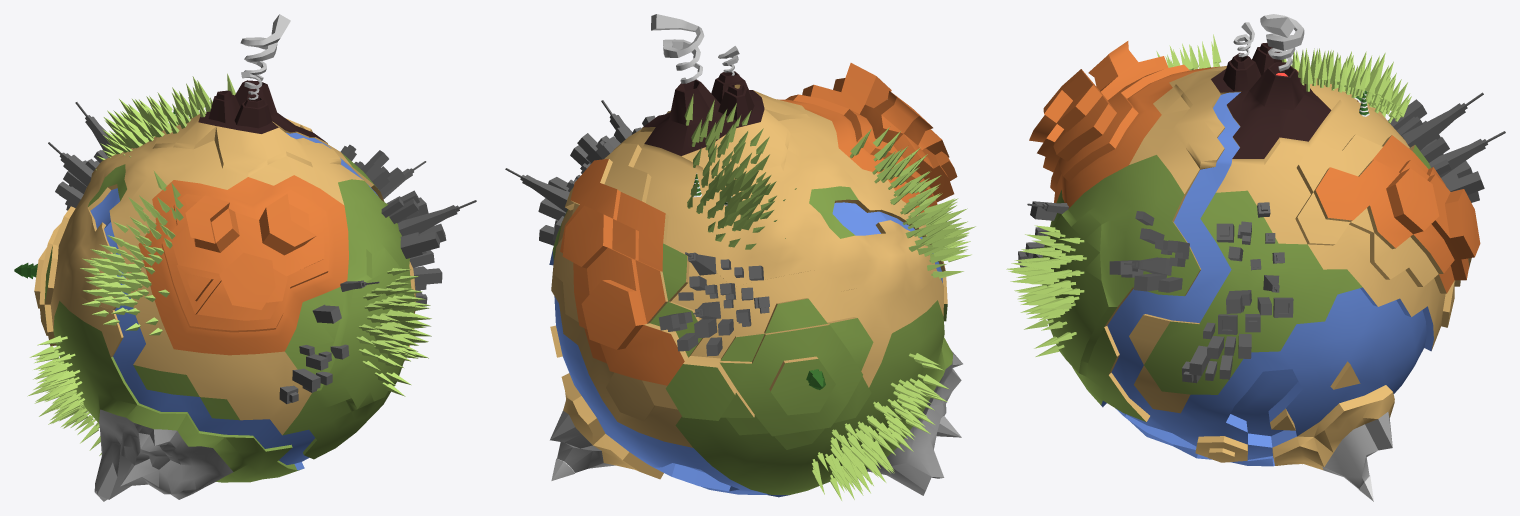
3 views of the same model, side by side, from view 1: azimuth 30°, elevation 25°; view 2: azimuth 150°, elevation 25°; view 3: azimuth 270°, elevation 25° (orthographic). The views are drawn at different scales.
Parts seen in each view (by area): view 1: Ground, Rocky Mountains, Grass, Forest, Mountains, City, Water, Forest 2, Forest 1, Volcano, City 1, Smoke; view 2: Ground, Grass, Rocky Mountains, City, Water, Forest, Forest 1, Mountains, Forest 2, Volcano, Smoke; view 3: Ground, Grass, Water, Rocky Mountains, City, Volcano, Forest, Forest 1, Mountains, Smoke, City 1, Forest 2.
Part boxes in pixels (bbox=[...]): Ground: bbox=[34, 114, 415, 435]; Rocky Mountains: bbox=[138, 175, 348, 355]; Grass: bbox=[44, 153, 414, 482]; Forest: bbox=[27, 268, 431, 455]; Mountains: bbox=[94, 409, 233, 501]; City: bbox=[48, 102, 476, 304]; Water: bbox=[90, 132, 378, 470]; Forest 2: bbox=[80, 171, 183, 335]; Forest 1: bbox=[95, 73, 235, 170]; Volcano: bbox=[198, 80, 326, 142]; City 1: bbox=[279, 280, 379, 403]; Smoke: bbox=[240, 14, 290, 99]; Ground: bbox=[550, 84, 947, 479]; Grass: bbox=[552, 186, 953, 494]; Rocky Mountains: bbox=[560, 63, 957, 385]; City: bbox=[505, 100, 769, 356]; Water: bbox=[549, 202, 942, 497]; Forest: bbox=[812, 353, 949, 500]; Forest 1: bbox=[684, 94, 796, 249]; Mountains: bbox=[550, 350, 962, 495]; Forest 2: bbox=[849, 127, 975, 278]; Volcano: bbox=[643, 71, 764, 156]; Smoke: bbox=[651, 14, 739, 83]; Ground: bbox=[1104, 66, 1471, 469]; Grass: bbox=[1042, 145, 1430, 421]; Water: bbox=[1101, 92, 1433, 466]; Rocky Mountains: bbox=[1029, 41, 1480, 293]; City: bbox=[1109, 92, 1505, 383]; Volcano: bbox=[1211, 43, 1331, 158]; Forest: bbox=[1006, 225, 1086, 356]; Forest 1: bbox=[1281, 48, 1411, 123]; Mountains: bbox=[1322, 412, 1392, 488]; Smoke: bbox=[1233, 14, 1304, 71]; City 1: bbox=[1018, 201, 1068, 267]; Forest 2: bbox=[1156, 34, 1221, 70].
Bounding box in the file's own units: 0.1804 × 0.1857 × 0.1801.
